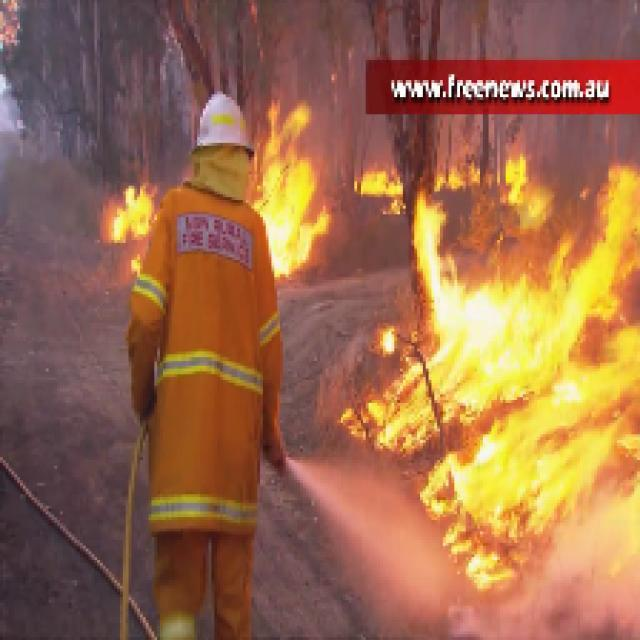Fire: (404, 182, 632, 545), (253, 112, 321, 270), (108, 182, 152, 236)
